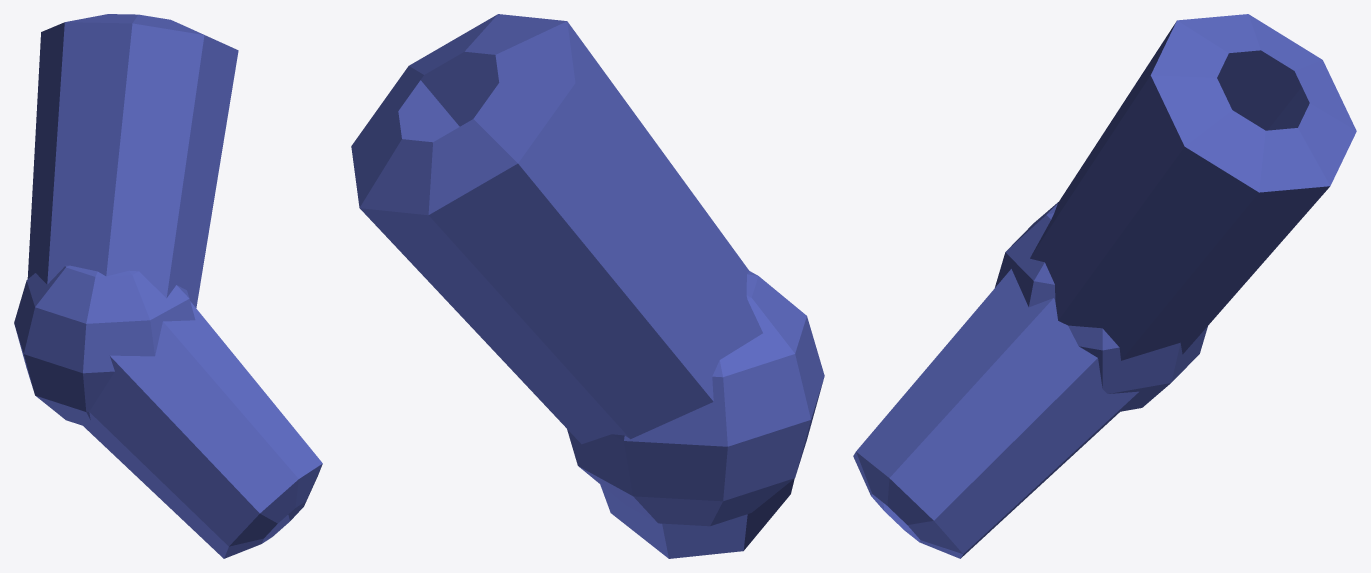
The model's file is abyss_mage_sleeve_L.obj.
3 renders of one model, left to right at view 1: azimuth 30°, elevation 25°; view 2: azimuth 150°, elevation 25°; view 3: azimuth 270°, elevation 25°, orthographic. The views are drawn at different scales.
Visible parts, largest first — view 1: sleeve_upper_L, sleeve_lower_L, sleeve_joint_L; view 2: sleeve_upper_L, sleeve_joint_L, sleeve_lower_L; view 3: sleeve_upper_L, sleeve_lower_L, sleeve_joint_L.
Boxes of the visible parts, <box> form: sleeve_upper_L: <box>27,14,238,307</box>; sleeve_lower_L: <box>83,301,322,558</box>; sleeve_joint_L: <box>14,265,195,426</box>; sleeve_upper_L: <box>351,14,762,444</box>; sleeve_joint_L: <box>567,271,824,526</box>; sleeve_lower_L: <box>600,478,794,558</box>; sleeve_upper_L: <box>1030,14,1356,360</box>; sleeve_lower_L: <box>853,269,1138,558</box>; sleeve_joint_L: <box>995,202,1207,411</box>.
Bounding box in the file's own units: 0.2737 × 0.4609 × 0.3997.
